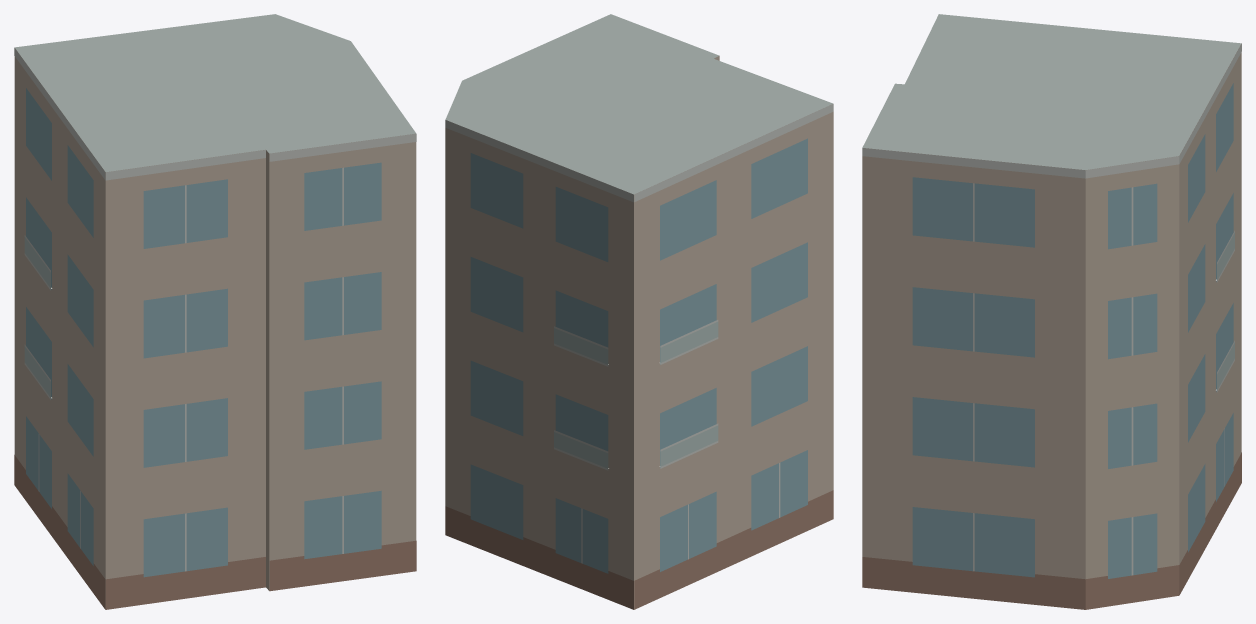
File: survey-upis-32871795.glb
The picture shows the model from 3 angles, left to right: view 1: azimuth 30°, elevation 25°; view 2: azimuth 150°, elevation 25°; view 3: azimuth 270°, elevation 25°; orthographic projection. The views are drawn at different scales.
Visible parts, largest first — view 1: survey-upis-32871795.tmp; view 2: survey-upis-32871795.tmp; view 3: survey-upis-32871795.tmp.
Part boxes in pixels (bbox=[...]): survey-upis-32871795.tmp: bbox=[14, 14, 416, 609]; survey-upis-32871795.tmp: bbox=[445, 14, 833, 609]; survey-upis-32871795.tmp: bbox=[862, 14, 1241, 609].
Bounding box in the file's own units: 9.76 × 12.8 × 10.02.
